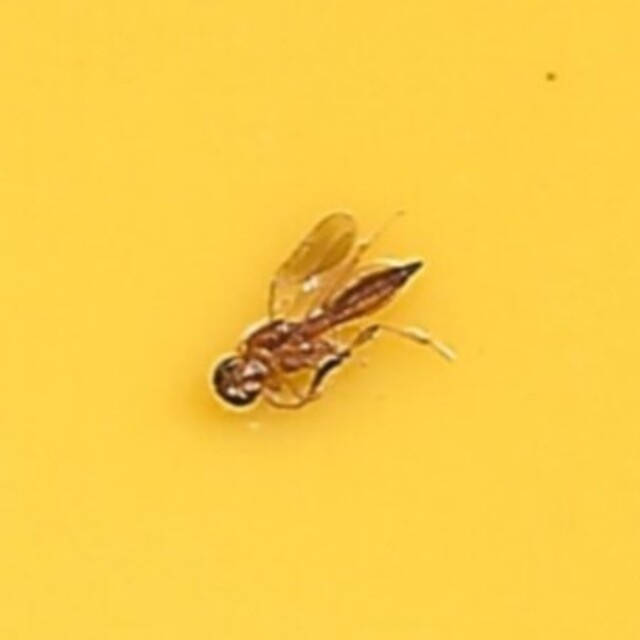Hymenoptera: (209, 215, 431, 425)
